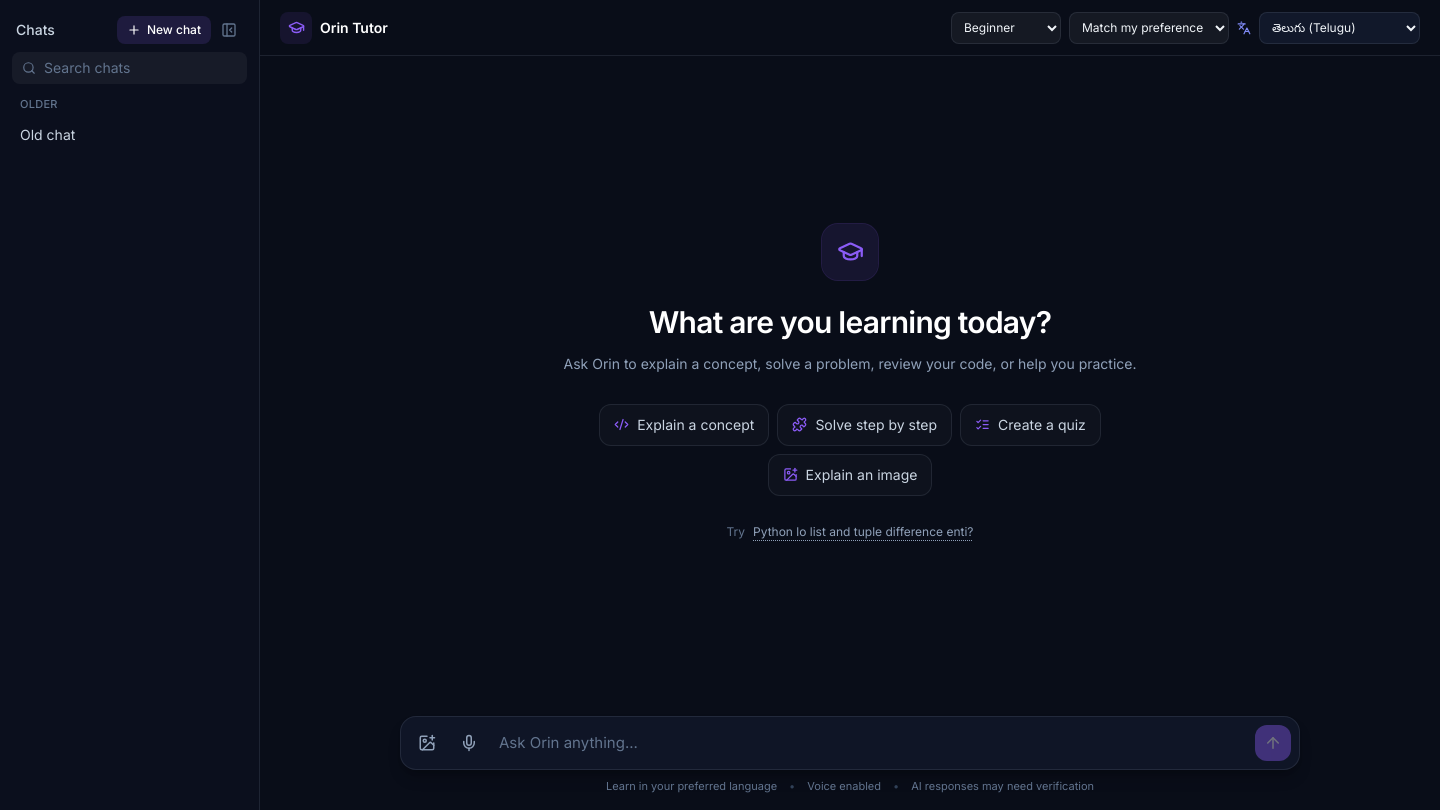
it: history + lightbox › shows a friendly placeholder if a saved image is gone
Click the button "Old chat" at x=114, y=134, box [8,116,221,152]
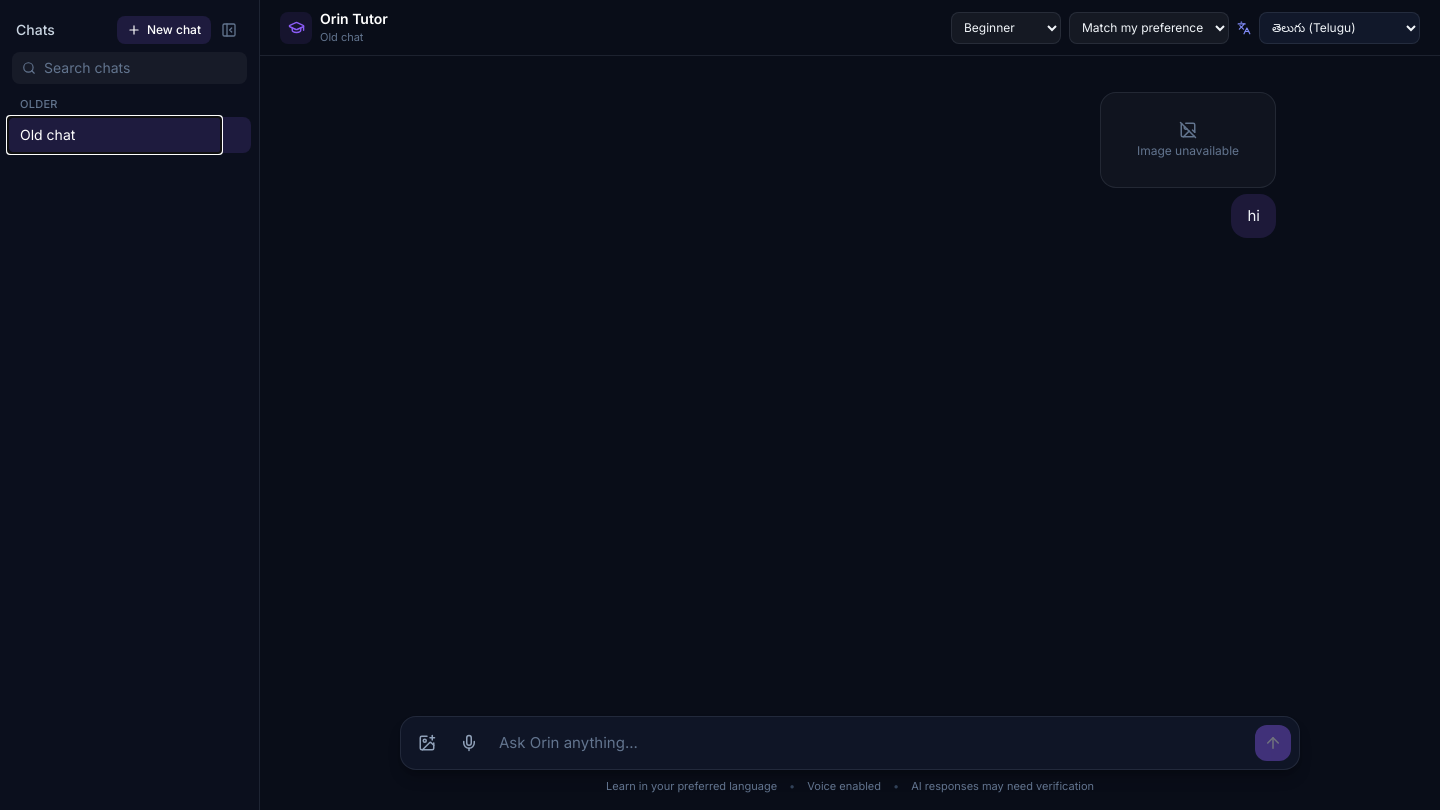
Check: the text "Image unavailable" is shown, box [1100,92,1276,188]
Check: the text "hi" is shown, box [1232,194,1276,238]
